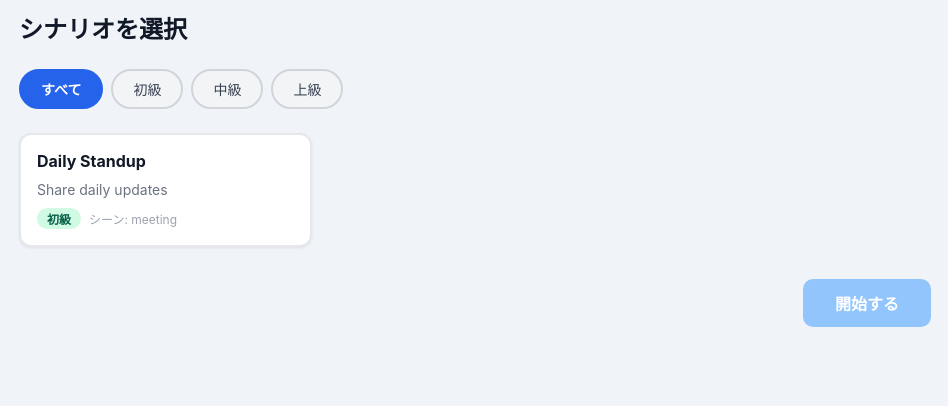
Placeholder Pages › SessionNewPage shows error when startSession fails
The image size is (948, 406).
Click the heading "Daily Standup" at point(91, 161), box [37,151,146,171]
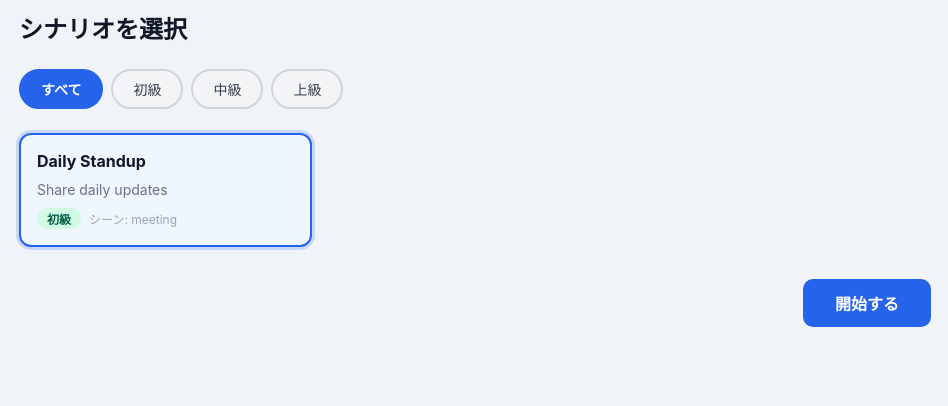
Click the button "開始する" at point(867, 303), box [803,279,931,327]
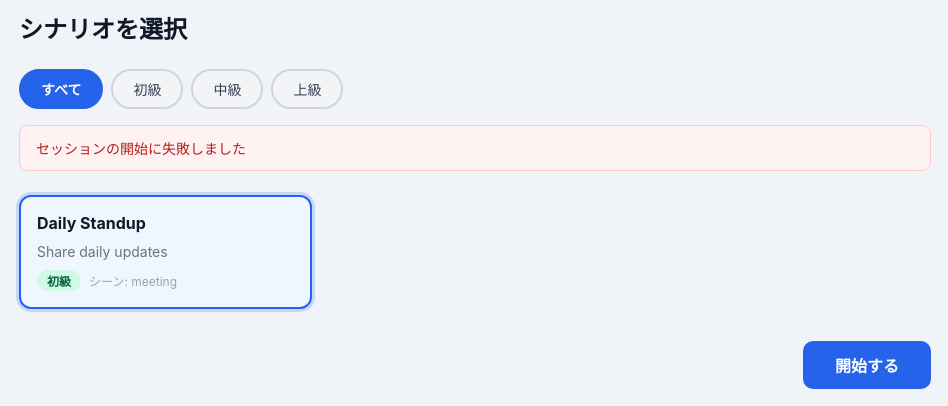
Now the text "セッションの開始に失敗しました" is shown, box [19,125,931,171]
